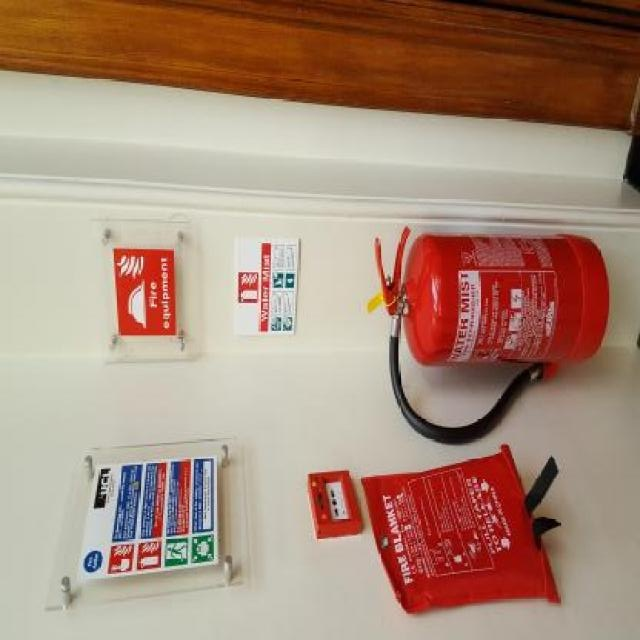fire extinguisher: (375, 220, 609, 437)
